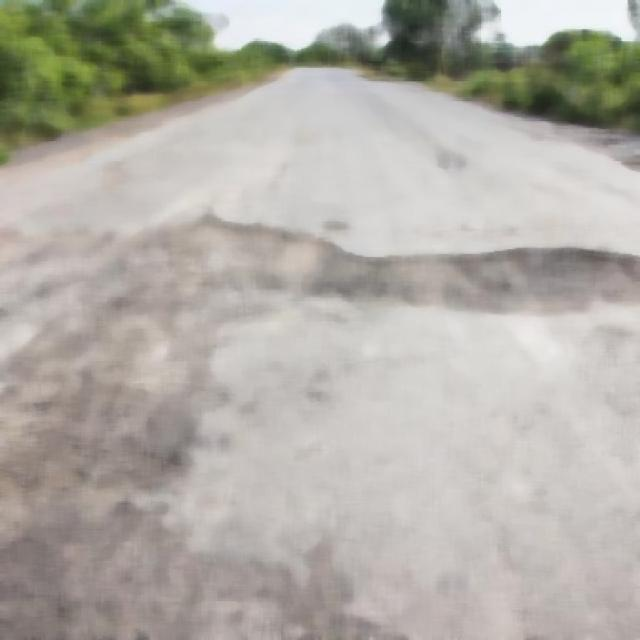Pothole: (128, 213, 640, 327)
